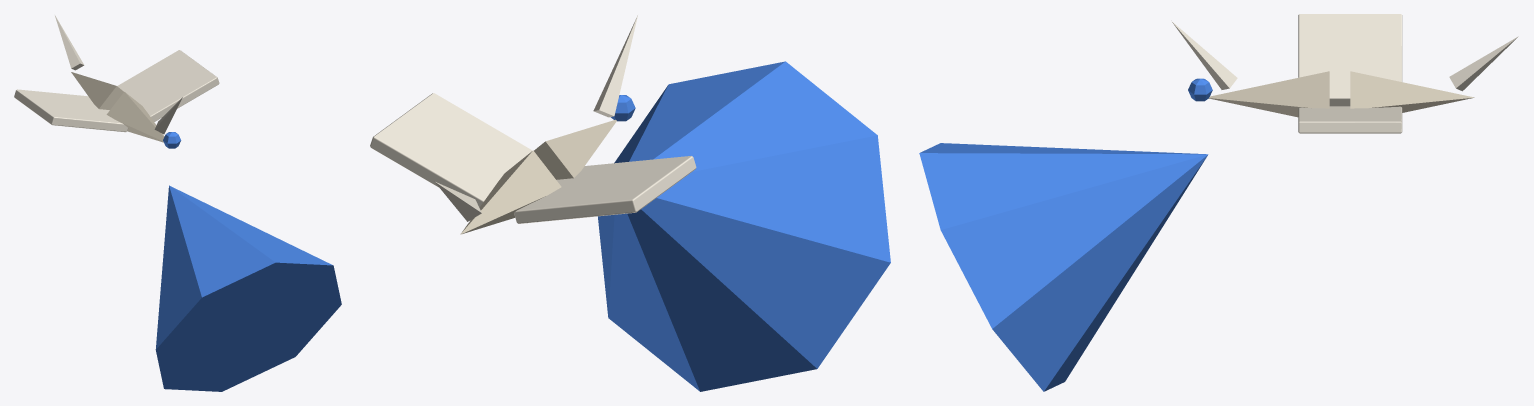
The model's file is crane_scout.glb.
3 renders of one model, left to right at view 1: azimuth 30°, elevation 25°; view 2: azimuth 150°, elevation 25°; view 3: azimuth 270°, elevation 25°, orthographic. The views are drawn at different scales.
Visible parts, largest first — view 1: scan_cone, wing_L, wing_R, body_front, body_back, tail, neck; view 2: scan_cone, wing_L, wing_R, body_back, body_front, neck, tail, lens; view 3: scan_cone, wing_R, body_front, body_back, wing_L, neck, tail.
Boxes of the visible parts, bbox=[...] form: scan_cone: bbox=[155, 185, 341, 391]; wing_L: bbox=[117, 50, 219, 121]; wing_R: bbox=[14, 89, 127, 132]; body_front: bbox=[106, 92, 164, 142]; body_back: bbox=[71, 72, 123, 109]; tail: bbox=[55, 15, 84, 70]; neck: bbox=[154, 97, 182, 134]; scan_cone: bbox=[598, 61, 890, 391]; wing_L: bbox=[370, 93, 532, 207]; wing_R: bbox=[514, 156, 696, 223]; body_back: bbox=[460, 150, 561, 234]; body_front: bbox=[534, 119, 616, 179]; neck: bbox=[593, 15, 637, 117]; tail: bbox=[434, 181, 481, 221]; lens: bbox=[610, 95, 635, 121]; scan_cone: bbox=[919, 143, 1208, 391]; wing_R: bbox=[1298, 14, 1402, 106]; body_front: bbox=[1209, 71, 1329, 117]; body_back: bbox=[1350, 71, 1474, 112]; wing_L: bbox=[1298, 106, 1402, 133]; neck: bbox=[1171, 21, 1237, 89]; tail: bbox=[1449, 36, 1518, 91].
Size of the model in its own units: 0.7 by 0.9574 by 1.44.
